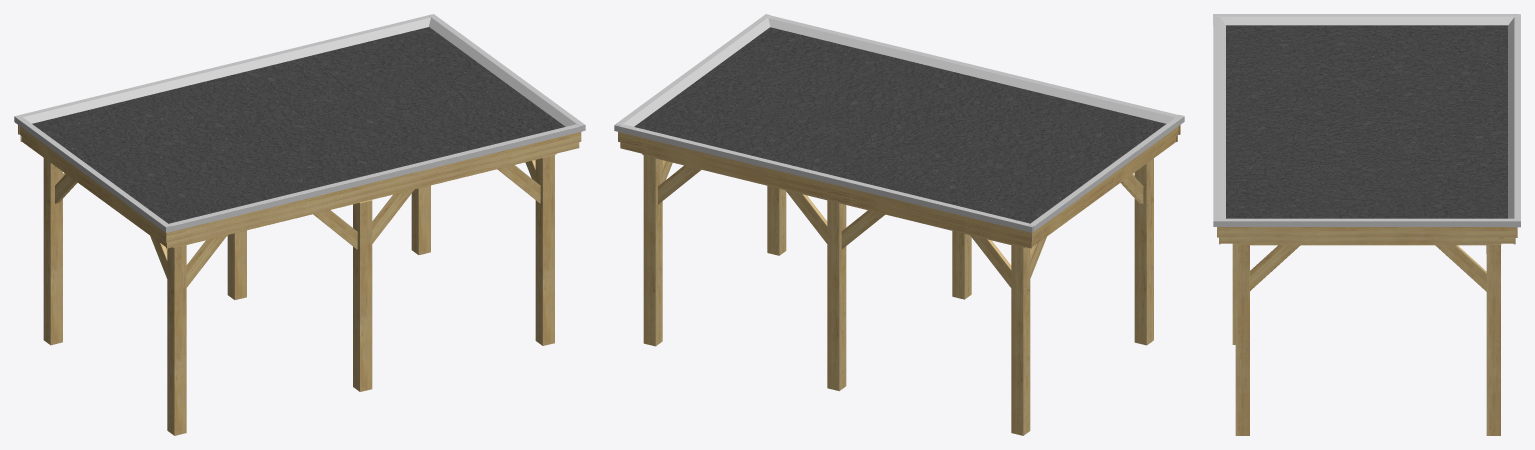
File: roof.gltf
3 renders of one model, left to right at view 1: azimuth 30°, elevation 25°; view 2: azimuth 150°, elevation 25°; view 3: azimuth 270°, elevation 25°, orthographic.
Parts seen in each view (by area): view 1: ruberoid_cover, lodge_length.002, central_col.001, lodge_length.001, col_corner.001, col_corner.003, lodge_width.001, col_corner.002, lodge_width.002, central_col.002, col_corner.004; view 2: ruberoid_cover, lodge_length.001, lodge_length.002, central_col.002, col_corner.002, col_corner.004, lodge_width.001, col_corner.001, lodge_width.002, col_corner.003, central_col.001; view 3: ruberoid_cover, lodge_width.002, col_corner.004, col_corner.003, lodge_width.001, lodge_length.001, lodge_length.002, central_col.001.
Boxes of the visible parts, <box> form: ruberoid_cover: <box>32,27,565,223</box>; lodge_length.002: <box>165,124,582,248</box>; central_col.001: <box>313,189,414,391</box>; lodge_length.001: <box>14,14,433,141</box>; col_corner.001: <box>150,235,227,435</box>; col_corner.003: <box>497,155,554,345</box>; lodge_width.001: <box>14,115,176,247</box>; col_corner.002: <box>43,158,77,345</box>; lodge_width.002: <box>429,14,585,154</box>; central_col.002: <box>227,230,246,299</box>; col_corner.004: <box>411,185,430,254</box>; ruberoid_cover: <box>634,27,1165,223</box>; lodge_length.001: <box>614,124,1033,248</box>; lodge_length.002: <box>768,15,1180,141</box>; central_col.002: <box>786,190,885,391</box>; col_corner.002: <box>970,235,1046,435</box>; col_corner.004: <box>643,155,701,346</box>; lodge_width.001: <box>1022,114,1184,247</box>; col_corner.001: <box>1120,158,1153,345</box>; lodge_width.002: <box>615,14,771,155</box>; col_corner.003: <box>767,186,786,255</box>; central_col.001: <box>952,231,971,299</box>; ruberoid_cover: <box>1226,25,1507,218</box>; lodge_width.002: <box>1213,218,1519,245</box>; col_corner.004: <box>1435,245,1500,435</box>; col_corner.003: <box>1235,245,1300,435</box>; lodge_width.001: <box>1213,14,1519,25</box>; lodge_length.001: <box>1498,14,1520,244</box>; lodge_length.002: <box>1213,17,1225,244</box>; central_col.001: <box>1232,243,1235,344</box>.
Bounding box in the file's own units: 5.12 × 2.58 × 3.21.
17 materials, 16 textured.
